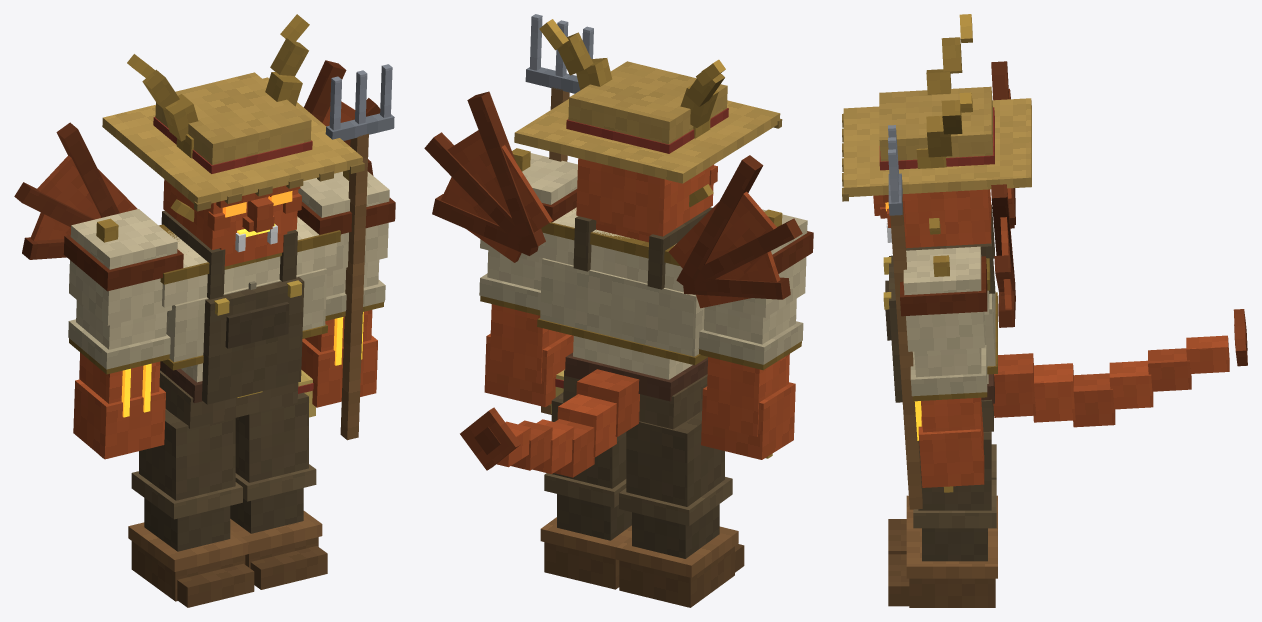
The model's file is demon_fermier_v2.glb.
3 views of the same model, side by side, from view 1: azimuth 30°, elevation 25°; view 2: azimuth 150°, elevation 25°; view 3: azimuth 270°, elevation 25° (orthographic). The views are drawn at different scales.
Visible parts, largest first — view 1: Torso, Head, ArmR, LegR, LegL, ArmL, HandL; view 2: Torso, Head, LegR, ArmR, ArmL, LegL, HandL; view 3: Head, Torso, ArmL, LegL, HandL, LegR.
Boxes of the visible parts, x1,y1,x2,y2 form: Torso: (14,60,380,428); Head: (102,14,364,266); ArmR: (63,209,183,459); LegR: (128,409,254,607); LegL: (230,392,327,589); ArmL: (297,170,395,407); HandL: (325,64,394,440); Torso: (424,91,802,477); Head: (514,19,782,242); LegR: (615,410,744,607); ArmR: (698,209,813,459); ArmL: (479,148,577,407); LegL: (540,392,631,589); HandL: (525,14,593,414); Head: (842,14,1031,248); Torso: (883,61,1247,431); ArmL: (900,246,987,492); LegL: (888,431,997,607); HandL: (888,125,922,509); LegR: (888,444,997,554).
Bounding box in the file's own units: 1.58 × 2.2 × 1.55.
44 materials, 44 textured.
